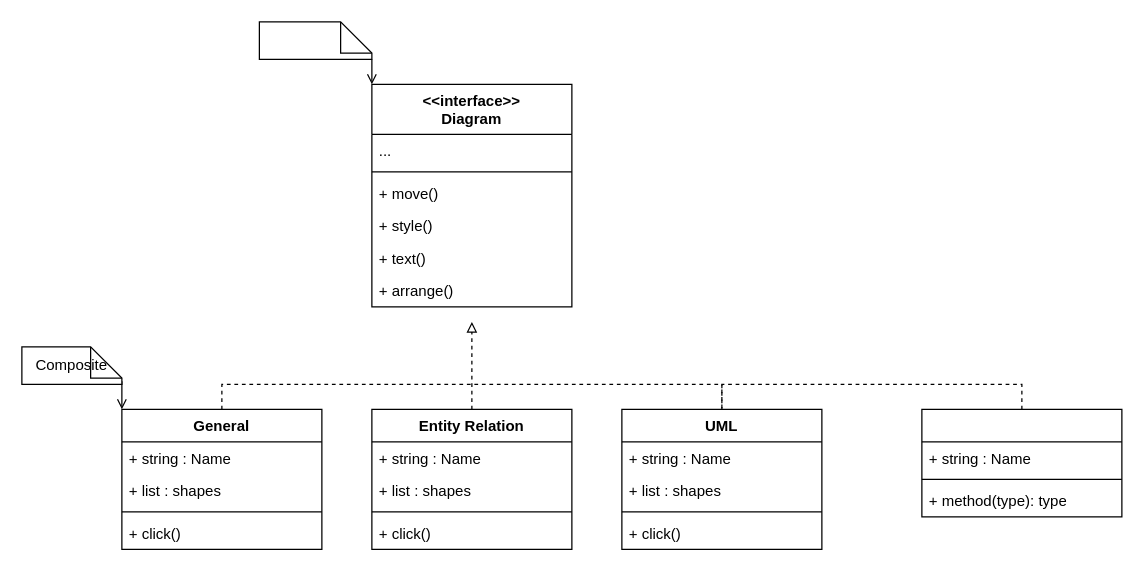
Some shapes in this 1144 by 575 pixel diagram are drawn without their labels. Here are the shapes that lost their labels. From the top down, the box of each, then its label:
(258, 21, 372, 59): Component
(921, 408, 1122, 517): Rectangle
